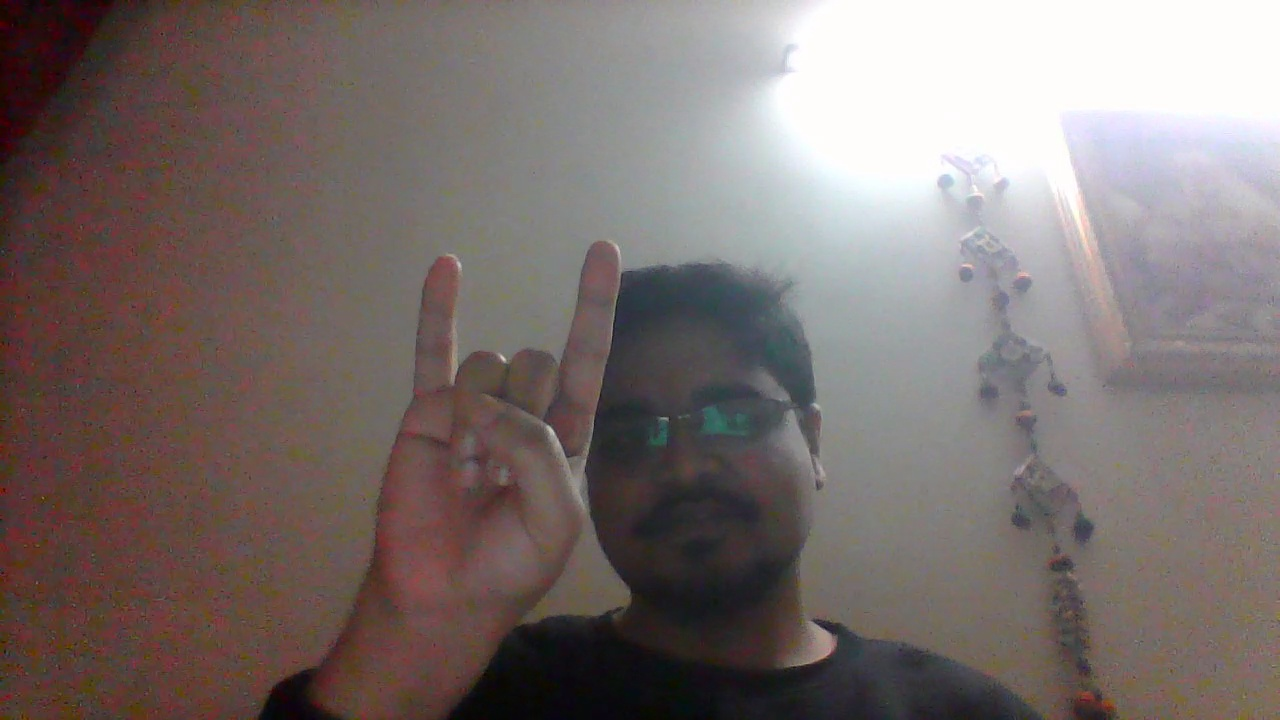ILoveYou: (370, 235, 621, 634)
